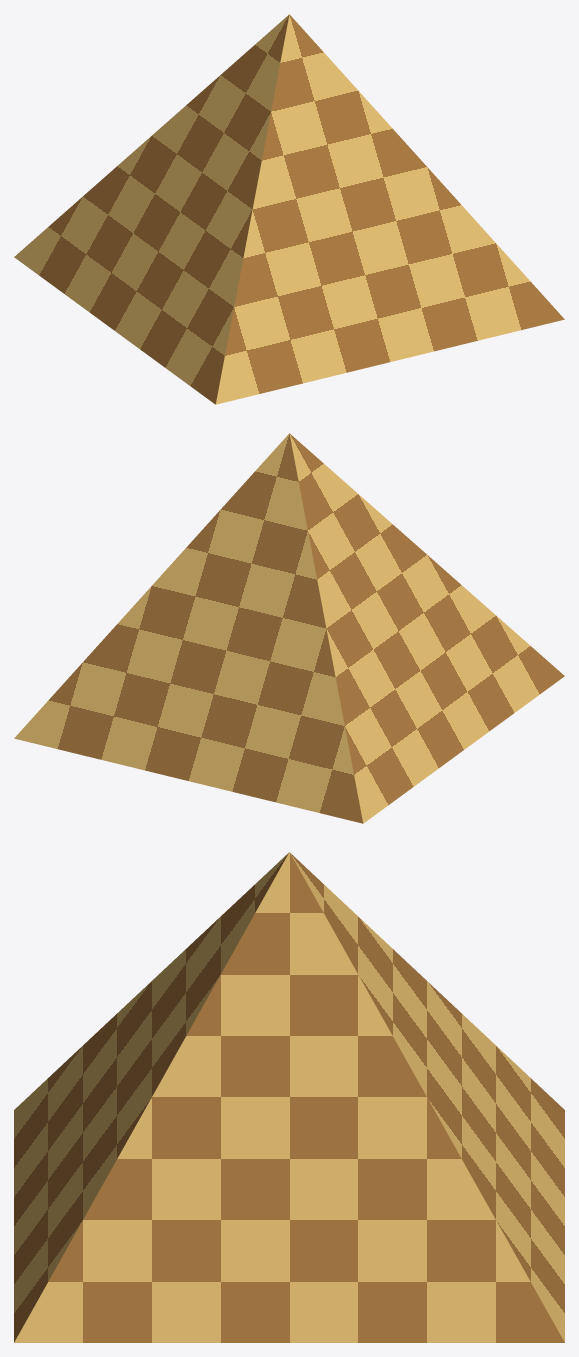
The picture shows the model from 3 angles, top to bottom: view 1: azimuth 30°, elevation 25°; view 2: azimuth 150°, elevation 25°; view 3: azimuth 270°, elevation 25°; orthographic projection. The views are drawn at different scales.
Visible parts, largest first — view 1: Pyramid; view 2: Pyramid; view 3: Pyramid.
Part boxes in pixels (x1,y1,x2,y2): Pyramid: (14, 14, 564, 404); Pyramid: (14, 433, 564, 823); Pyramid: (14, 852, 564, 1342).
Size of the model in its own units: 4 by 3 by 4.
1 material, 1 textured.
